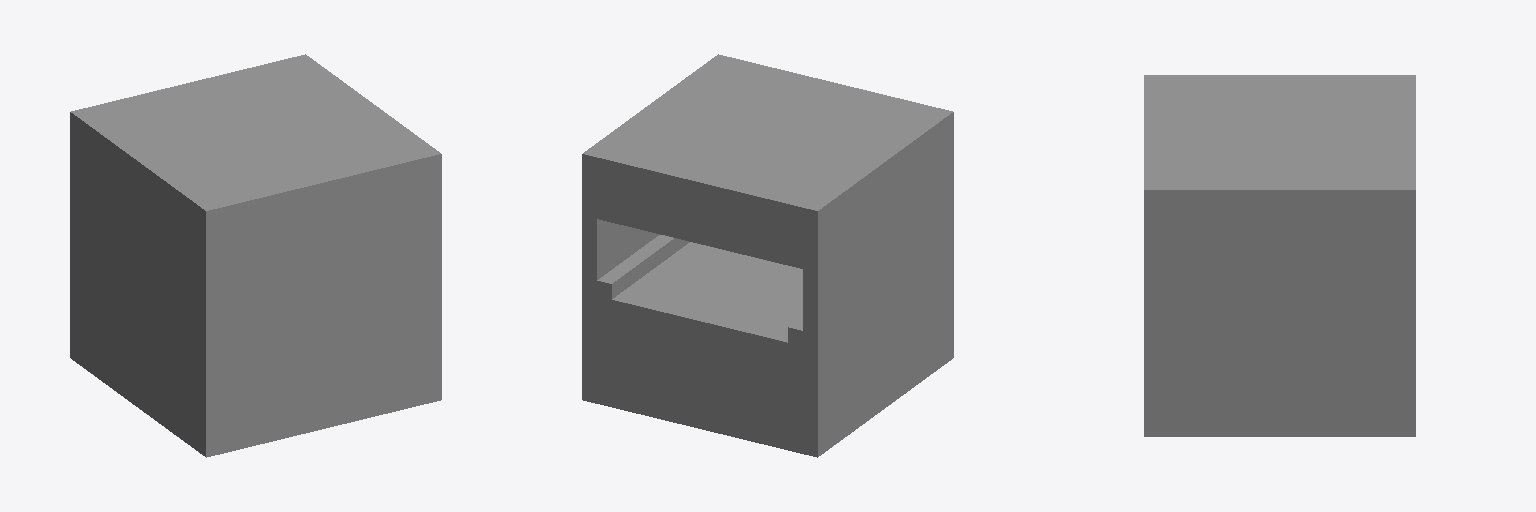
The model's file is htfurnace.obj.
The picture shows the model from 3 angles: view 1: azimuth 30°, elevation 25°; view 2: azimuth 150°, elevation 25°; view 3: azimuth 270°, elevation 25°; orthographic projection.
Visible parts, largest first — view 1: Cube; view 2: Cube; view 3: Cube.
Boxes of the visible parts, x1,y1,x2,y2 form: Cube: [70, 54, 441, 457]; Cube: [582, 54, 953, 457]; Cube: [1144, 75, 1415, 436].
Bounding box in the file's own units: 1 × 1 × 1.